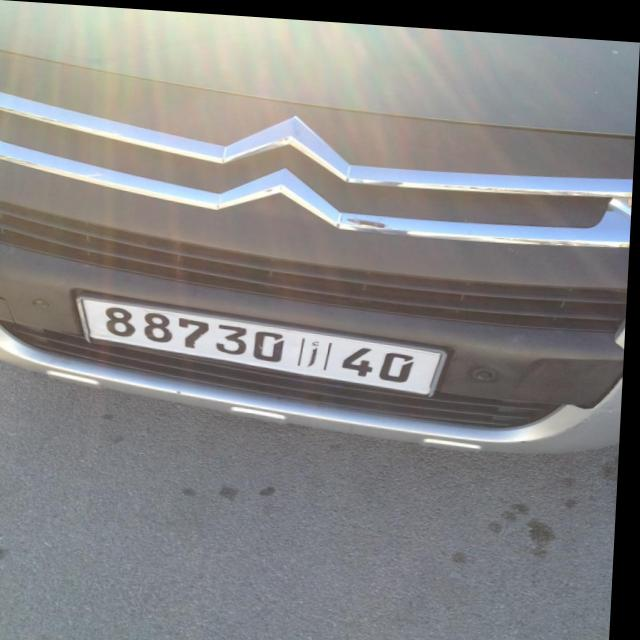License-Plate: (81, 295, 449, 389)
